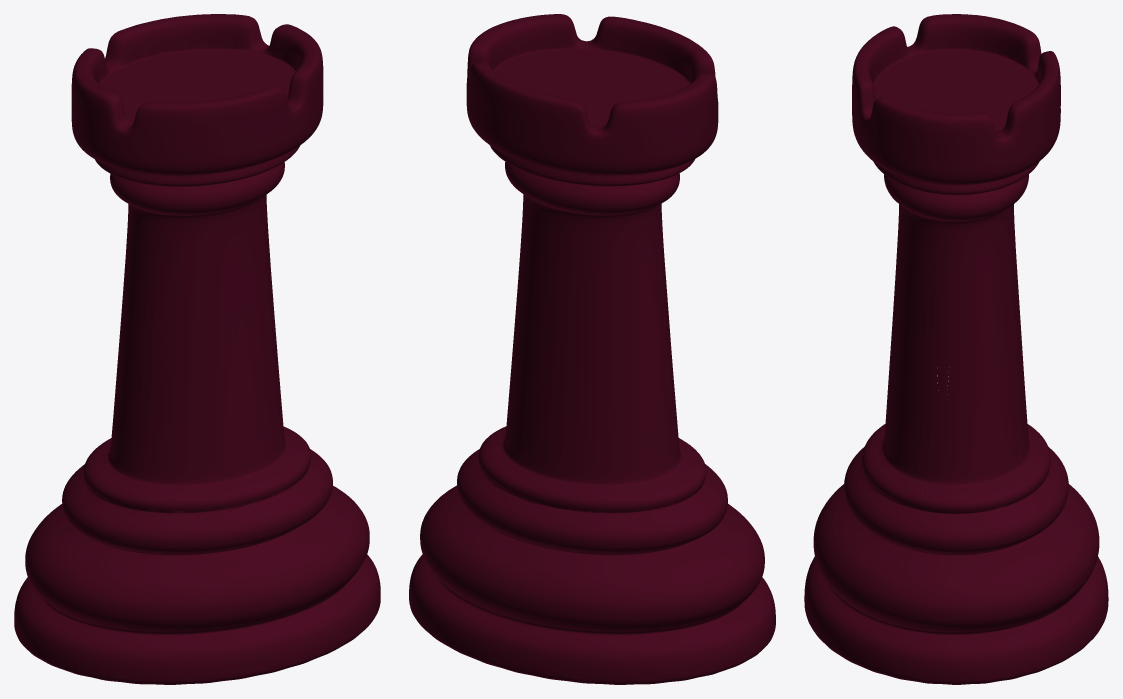
The model's file is gercek3_r_b.glb.
3 views of the same model, side by side, from view 1: azimuth 30°, elevation 25°; view 2: azimuth 150°, elevation 25°; view 3: azimuth 270°, elevation 25° (orthographic). The views are drawn at different scales.
Parts seen in each view (by area): view 1: Object_23, Object_24; view 2: Object_23, Object_24; view 3: Object_24, Object_23.
Part boxes in pixels (x1,y1,x2,y2): Object_23: (14,54,380,684); Object_24: (18,14,371,640); Object_23: (409,52,775,684); Object_24: (420,14,758,662); Object_24: (820,14,1099,647); Object_23: (804,63,1108,684).
Size of the model in its own units: 1.37 by 2.23 by 1.11.
